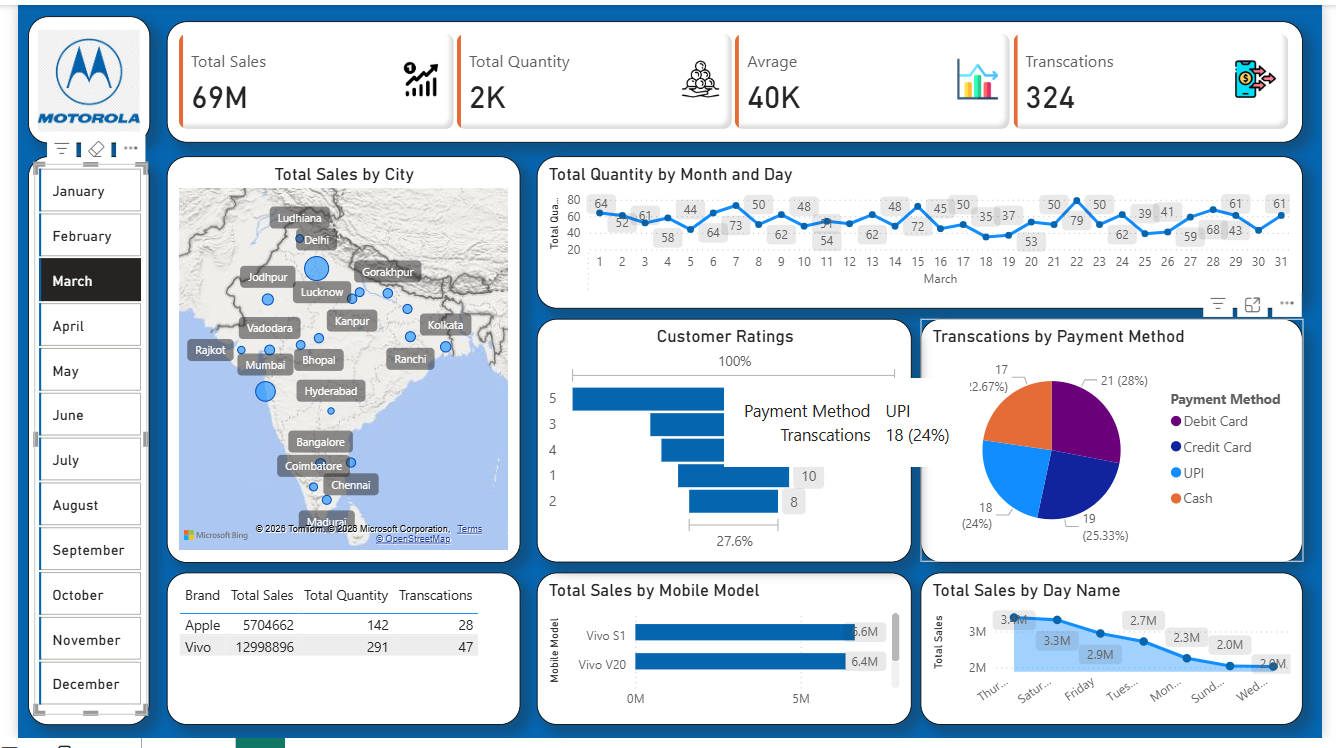

Layout of this report page (visuals, bound fields, positions):
{"tool":"powerbi","page":{"name":"Page 1","canvas":[1280,720],"ordinal":0},"visuals":[{"type":"shape","box":[10,11,120,125],"z":0},{"type":"image","box":[15,17,110,114],"z":1000},{"type":"shape","box":[10.4,148.1,119.5,558.4],"z":2000},{"type":"advancedSlicerVisual","fields":{"Values":["Sheet1.Date.Variation.Date Hierarchy.Month"]},"box":[15.6,155.8,110.4,541.6],"z":3000},{"type":"cardVisual","fields":{"Data":["Sales_data.Total Sales","Sales_data.Total Quantity","Sales_data.Avrage","Sales_data.Transcations"]},"box":[145.9,16.5,1115.3,118.8],"z":4000},{"type":"map","fields":{"Category":["Sales_data.City"],"Size":["Sales_data.Total Sales"]},"box":[145.9,148.2,347.1,398.8],"z":5000},{"type":"lineChart","fields":{"Y":["Sales_data.Total Quantity"],"Category":["Sales_data.Date.Variation.Date Hierarchy.Month","Sales_data.Date.Variation.Date Hierarchy.Day"]},"box":[509.4,148.2,751.8,149.4],"z":6000},{"type":"barChart","fields":{"Category":["Sales_data.Mobile Model"],"Y":["Sales_data.Total Sales"]},"box":[509.4,557.6,368.2,149.4],"z":7000},{"type":"pieChart","fields":{"Category":["Sales_data.Payment Method"],"Y":["Sales_data.Transcations"]},"box":[885.9,308.2,375.3,238.8],"z":8000},{"type":"funnel","title":"Customer Ratings","fields":{"Category":["Sales_data.Customer Ratings"],"Y":["CountNonNull(Sales_data.Customer Ratings)"]},"box":[509.4,308.2,368.2,238.8],"z":8001},{"type":"areaChart","fields":{"Y":["Sales_data.Total Sales"],"Category":["Sales_data.Day Name"]},"box":[885.9,557.6,375.3,149.4],"z":8002},{"type":"tableEx","fields":{"Values":["Sales_data.Brand","Sales_data.Total Sales","Sales_data.Total Quantity","Sales_data.Transcations"]},"box":[145.9,557.6,347.1,149.4],"z":8003}]}

Visuals, with their boxes in screenshot pixels (x1, y1, x2, y2):
shape: box(24, 11, 147, 139)
image: box(29, 17, 142, 134)
shape: box(25, 152, 147, 724)
advancedSlicerVisual - Sheet1.Date.Variation.Date Hierarchy.Month: box(30, 160, 143, 715)
cardVisual - Sales_data.Total Sales x Sales_data.Total Quantity: box(163, 17, 1306, 139)
map - Sales_data.City x Sales_data.Total Sales: box(163, 152, 519, 560)
lineChart - Sales_data.Total Quantity x Sales_data.Date.Variation.Date Hierarchy.Month: box(536, 152, 1306, 305)
barChart - Sales_data.Mobile Model x Sales_data.Total Sales: box(536, 571, 913, 724)
pieChart - Sales_data.Payment Method x Sales_data.Transcations: box(922, 316, 1306, 560)
"Customer Ratings" funnel: box(536, 316, 913, 560)
areaChart - Sales_data.Total Sales x Sales_data.Day Name: box(922, 571, 1306, 724)
tableEx - Sales_data.Brand x Sales_data.Total Sales: box(163, 571, 519, 724)
